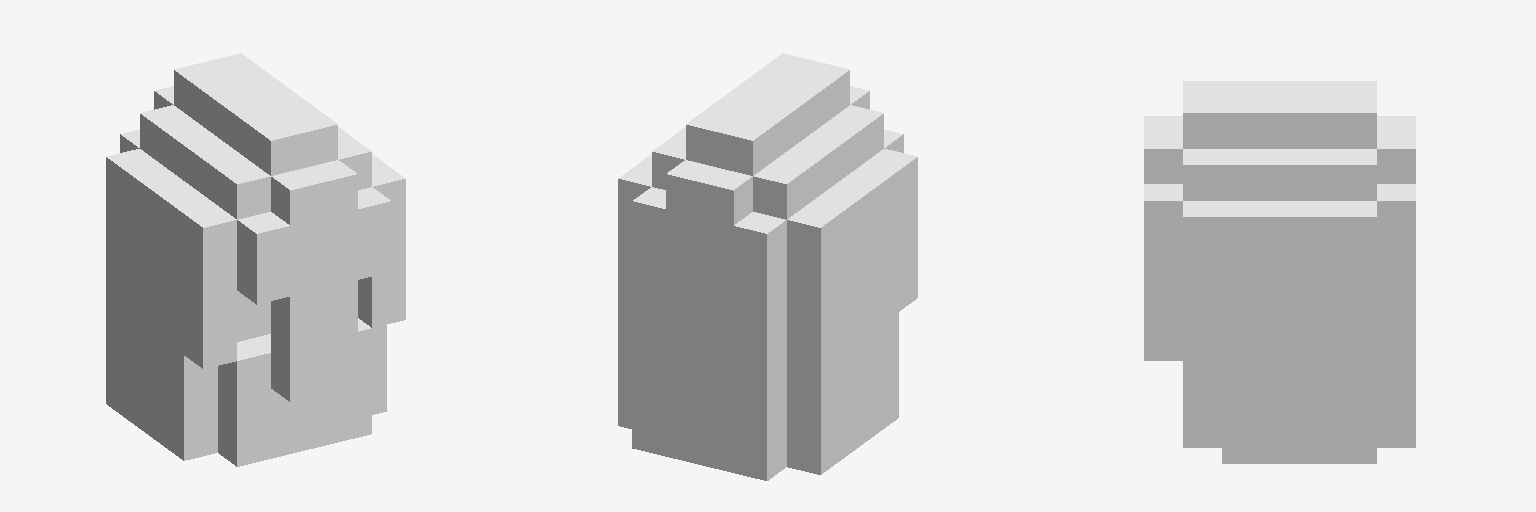
The model's file is char-252-helm_med_1c_du.obj.
3 renders of one model, left to right at view 1: azimuth 30°, elevation 25°; view 2: azimuth 150°, elevation 25°; view 3: azimuth 270°, elevation 25°, orthographic.
Visible parts, largest first — view 1: helm_med_1c_du; view 2: helm_med_1c_du; view 3: helm_med_1c_du.
Part boxes in pixels (left/top/right/bottom): helm_med_1c_du: left=106, top=53, right=405, bottom=466; helm_med_1c_du: left=618, top=53, right=917, bottom=480; helm_med_1c_du: left=1144, top=81, right=1415, bottom=463.
Size of the model in its own units: 0.6 by 0.9 by 0.7.